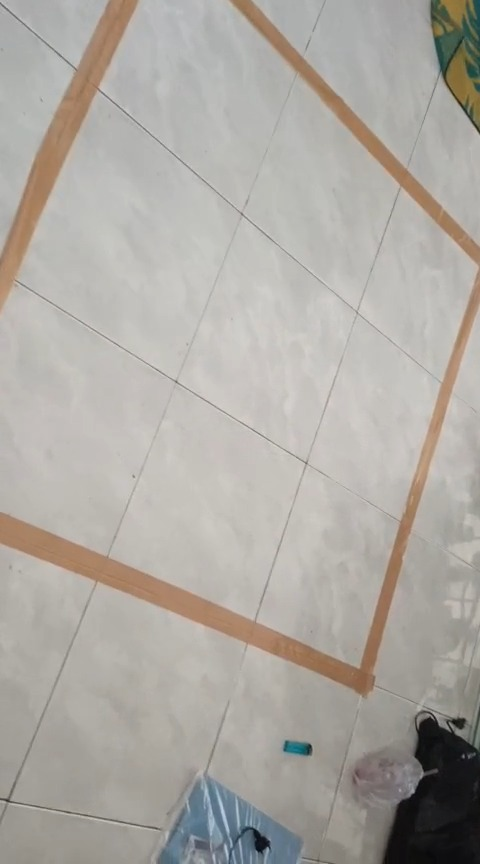floor marking: (0, 0, 479, 695), (0, 0, 138, 309)
